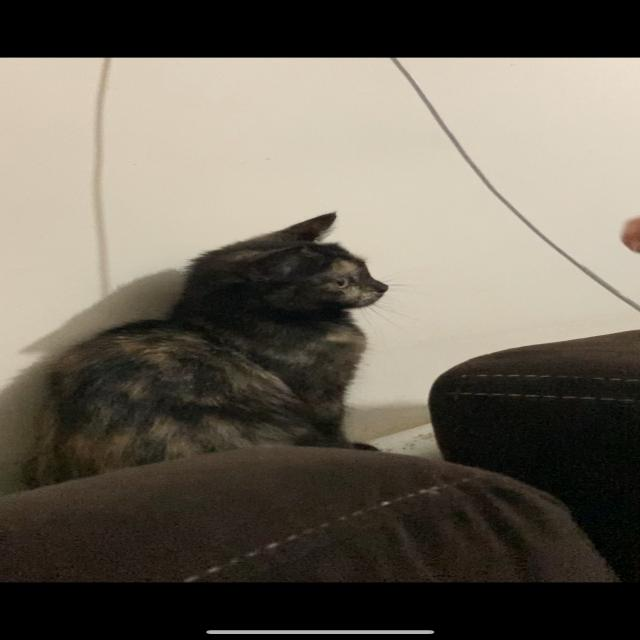authorized: (16, 210, 398, 491)
